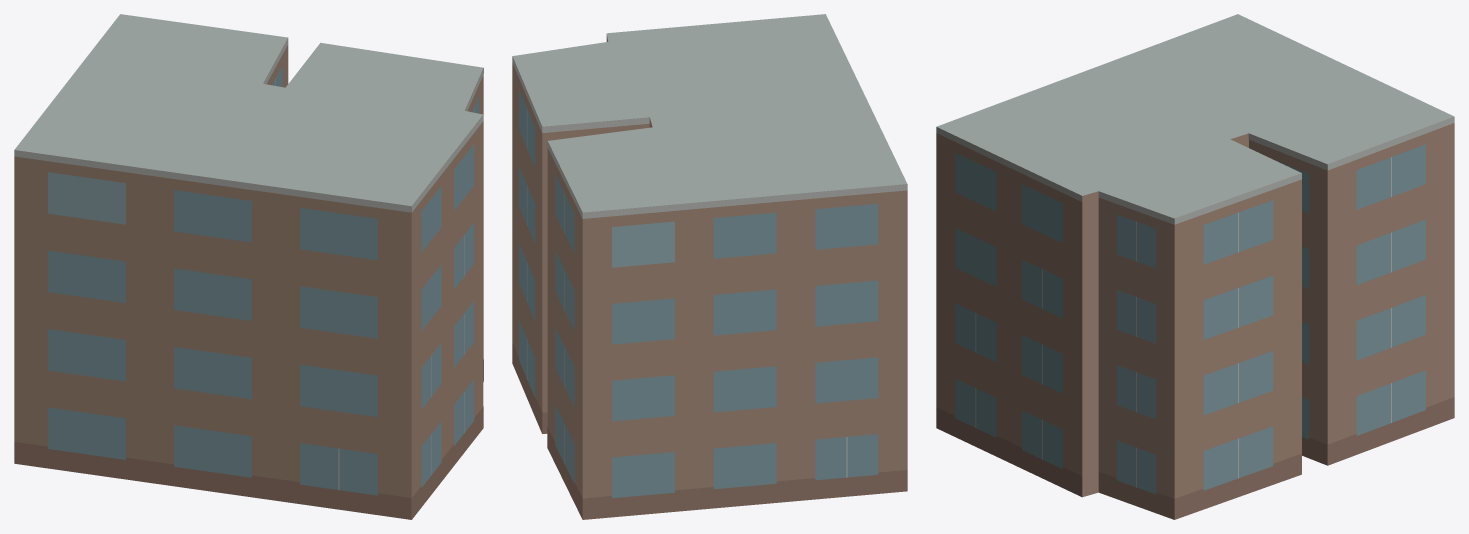
The model's file is survey-upis-32628730.glb.
3 views of the same model, side by side, from view 1: azimuth 30°, elevation 25°; view 2: azimuth 150°, elevation 25°; view 3: azimuth 270°, elevation 25° (orthographic). The views are drawn at different scales.
Parts seen in each view (by area): view 1: survey-upis-32628730.tmp; view 2: survey-upis-32628730.tmp; view 3: survey-upis-32628730.tmp.
Boxes of the visible parts, left/top/right/bottom form: survey-upis-32628730.tmp: left=14, top=14, right=483, bottom=519; survey-upis-32628730.tmp: left=512, top=14, right=907, bottom=519; survey-upis-32628730.tmp: left=936, top=14, right=1454, bottom=519.
Bounding box in the file's own units: 17.19 × 11.8 × 18.4.
